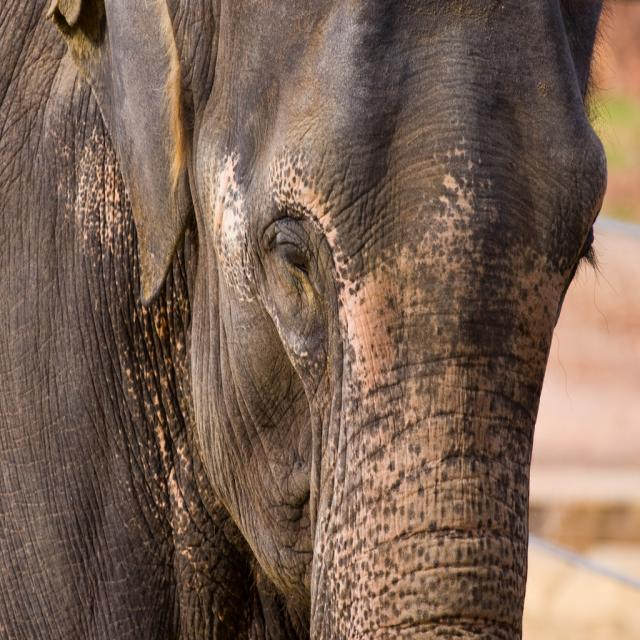Elephant: (62, 0, 626, 640)
